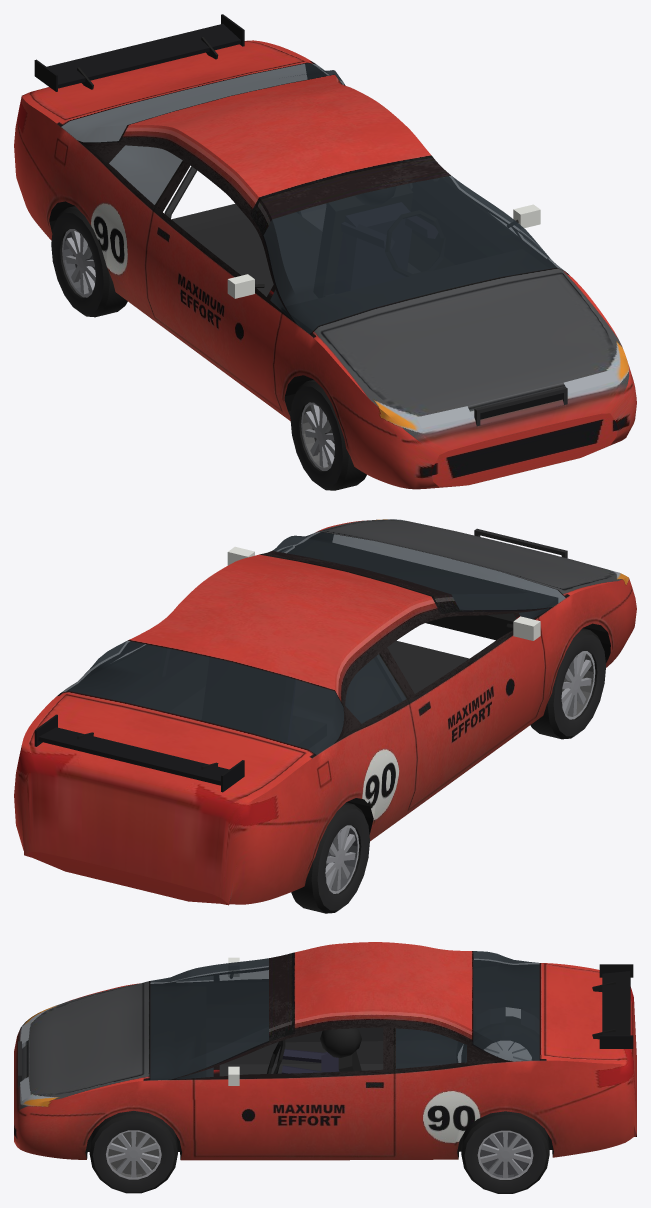
The picture shows the model from 3 angles, top to bottom: view 1: azimuth 30°, elevation 25°; view 2: azimuth 150°, elevation 25°; view 3: azimuth 270°, elevation 25°; orthographic projection. The views are drawn at different scales.
Parts seen in each view (by area): view 1: body, wheel_rr, wheel_fr; view 2: body, wheel_rr, wheel_fr; view 3: body, wheel_rl, wheel_fl, wheel_rr.
Boxes of the visible parts, <box> form: body: <box>14,14,636,489</box>; wheel_rr: <box>51,206,127,317</box>; wheel_fr: <box>290,379,366,490</box>; body: <box>14,519,636,905</box>; wheel_rr: <box>291,802,369,913</box>; wheel_fr: <box>530,628,605,739</box>; body: <box>14,942,636,1160</box>; wheel_rl: <box>461,1111,549,1193</box>; wheel_fl: <box>89,1111,177,1193</box>; wheel_rr: <box>461,1016,539,1062</box>.
Bounding box in the file's own units: 1.97 × 1.35 × 4.44.
2 materials, 1 textured.
